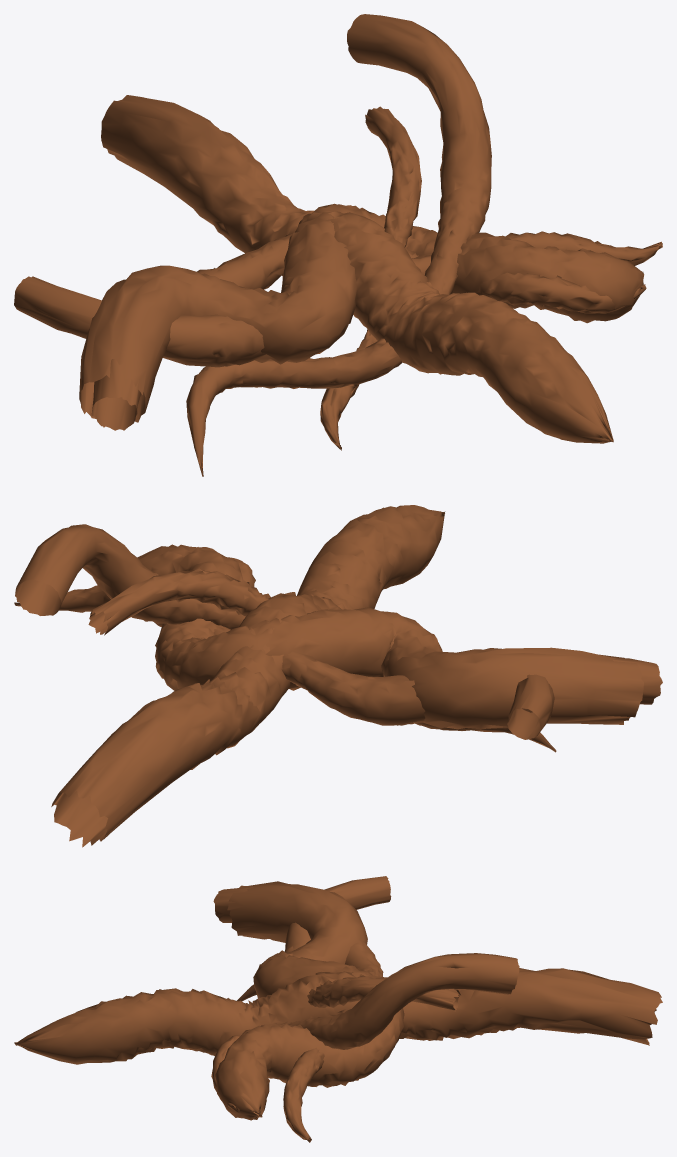
File: root_parca.fbx
3 renders of one model, top to bottom at view 1: azimuth 30°, elevation 25°; view 2: azimuth 150°, elevation 25°; view 3: azimuth 270°, elevation 25°, orthographic. The views are drawn at different scales.
Parts seen in each view (by area): view 1: root_p_6, root_p_2, root_p_4, root_P_3, root_p_1, root_p_5; view 2: root_p_2, root_p_6, root_p_4, root_p_1, root_p_5, root_P_3; view 3: root_p_6, root_p_2, root_p_4, root_P_3, root_p_5, root_p_1.
Part boxes in pixels (x1,y1,x2,y2): root_p_6: (101, 95, 613, 443); root_p_2: (79, 203, 644, 427); root_p_4: (186, 14, 491, 476); root_P_3: (14, 231, 662, 367); root_p_1: (91, 233, 646, 430); root_p_5: (320, 106, 421, 450); root_p_2: (97, 544, 643, 729); root_p_6: (51, 505, 445, 847); root_p_4: (15, 524, 556, 752); root_p_1: (227, 557, 662, 725); root_p_5: (88, 568, 414, 725); root_P_3: (14, 585, 554, 739); root_p_6: (14, 968, 662, 1064); root_p_2: (215, 881, 404, 1120); root_p_4: (237, 953, 519, 1049); root_P_3: (283, 876, 391, 1142); root_p_5: (307, 975, 460, 1011); root_p_1: (211, 886, 383, 1112).
Bounding box in the file's own units: 15.97 × 6.06 × 19.44.
